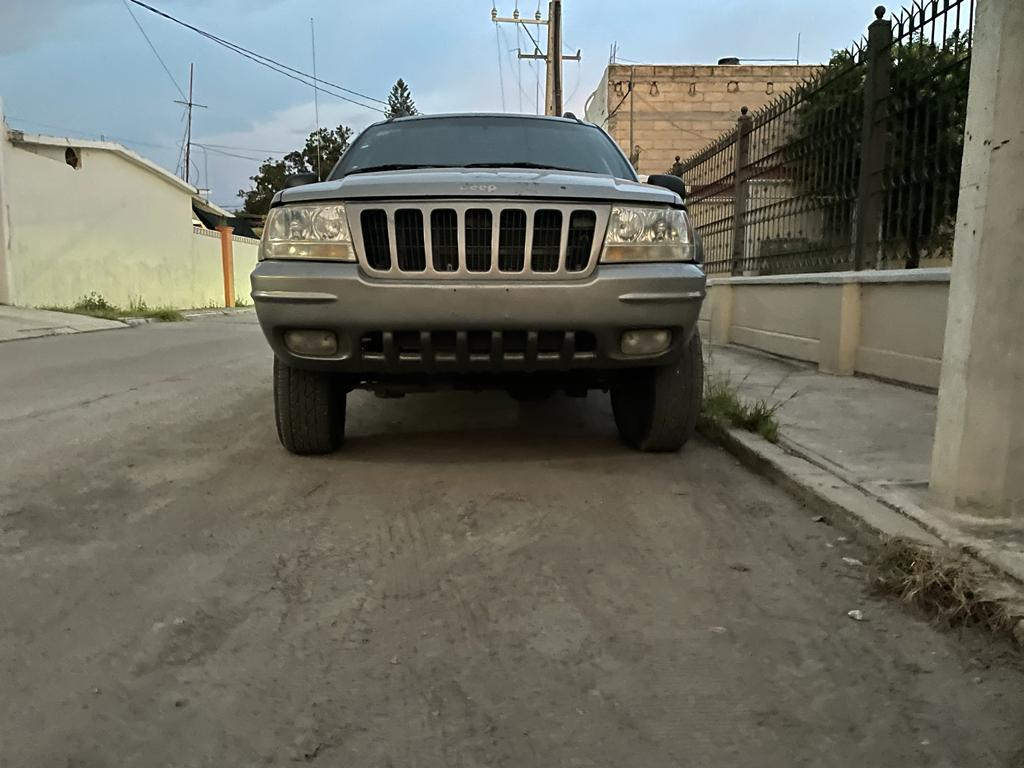Auto: (250, 108, 703, 458)
